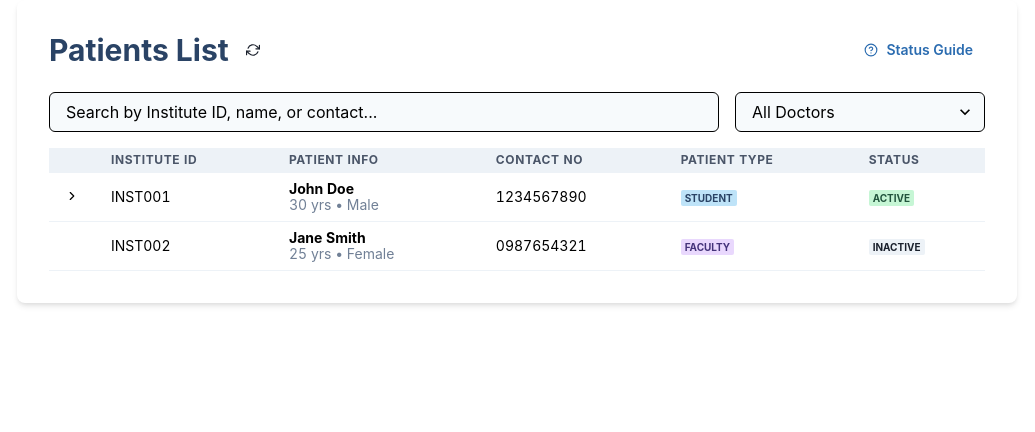
it: PatientsList Component › expands row to show visit history when clicked
Expected: the text "John Doe" is shown, [289,180,354,197]
Row for John Doe should be clickable since it has appointments
Click the text "John Doe" at (517,197), box [49,172,985,222]
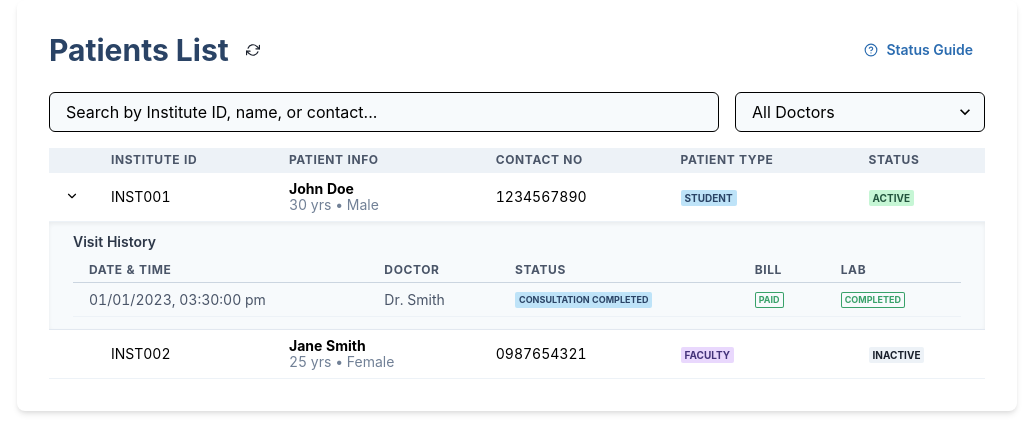
Result: the text "Visit History" is shown at [73,233,156,250]
Result: the text "Dr. Smith" is shown at [368,282,499,317]
